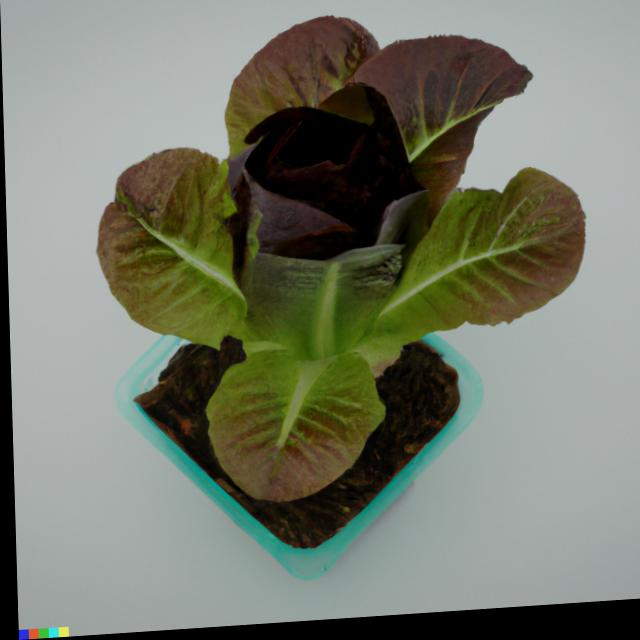-P: (77, 0, 598, 530)
